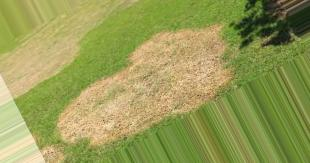patch: (145, 39, 208, 77), (127, 74, 197, 108), (82, 92, 131, 134), (67, 107, 89, 136), (187, 74, 211, 90)
